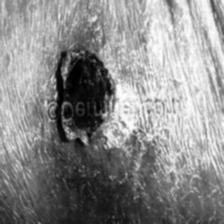Potentially Malignant Skin Tumors: (53, 48, 133, 96), (61, 115, 136, 147)
